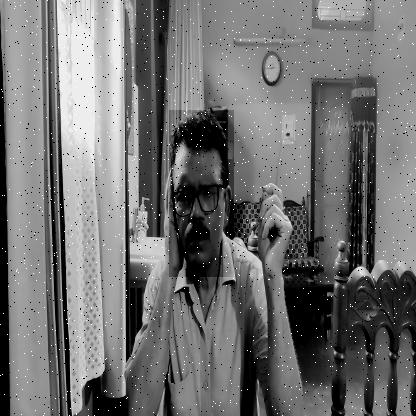Normal: (169, 110, 234, 277)
